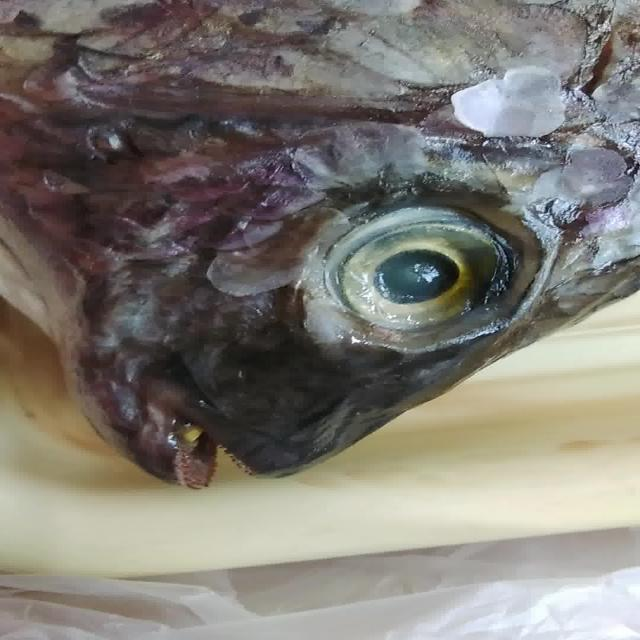Non-Fresh: (241, 149, 567, 382)
